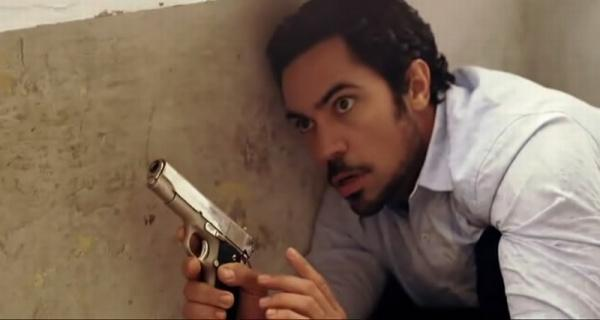Gun: (145, 157, 255, 320)
